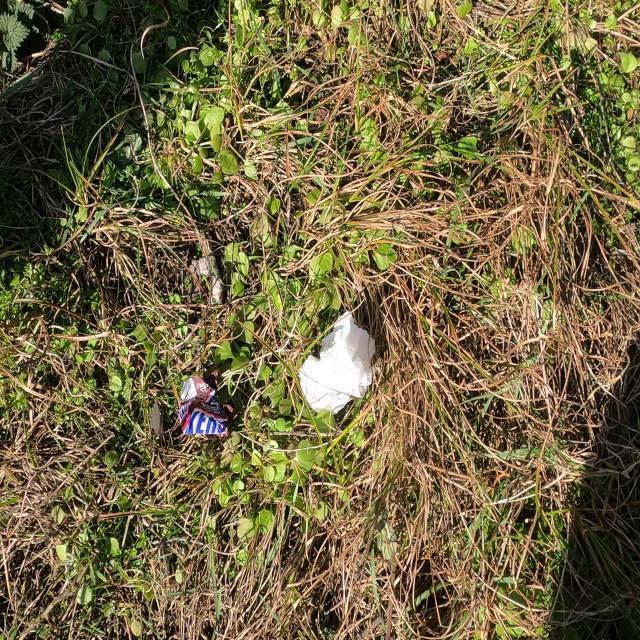Paper: (298, 310, 379, 416)
Plastic: (179, 362, 230, 440)
